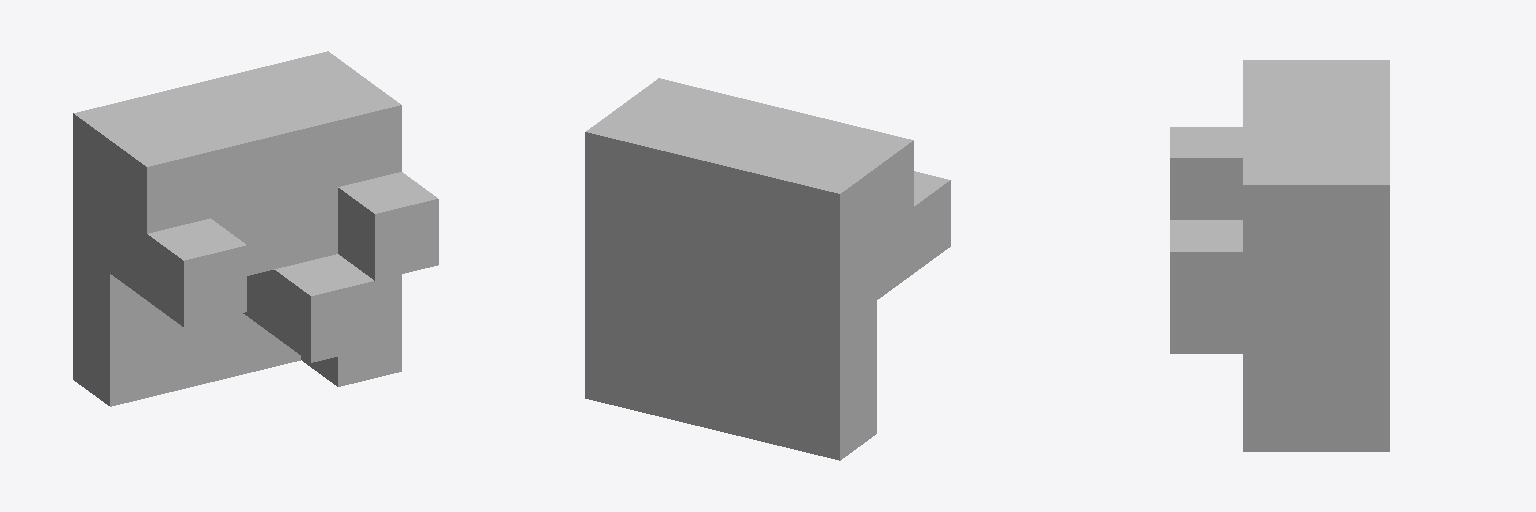
Rendered from ugal.obj.
3 renders of one model, left to right at view 1: azimuth 30°, elevation 25°; view 2: azimuth 150°, elevation 25°; view 3: azimuth 270°, elevation 25°, orthographic.
Bounding box in the file's own units: 4 × 4 × 3.